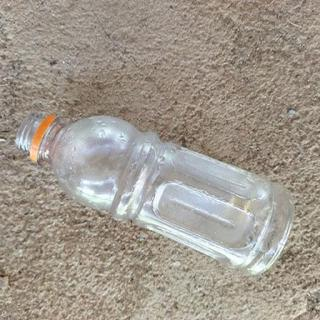Plastic-bottle: (14, 110, 297, 281)
